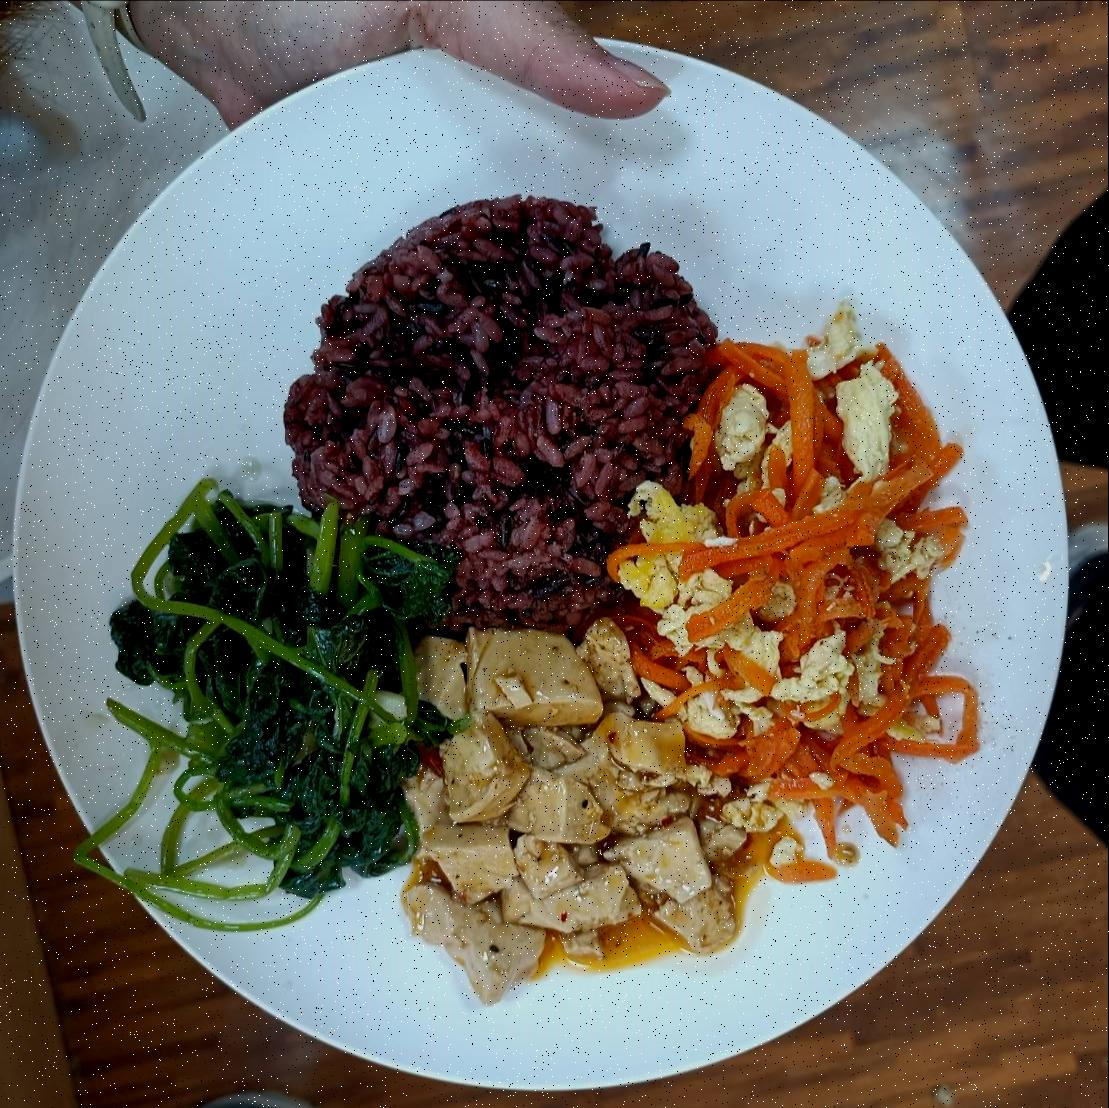plate: (14, 18, 1080, 1104)
purple rice: (271, 189, 724, 638)
side dish: (643, 298, 960, 876), (108, 478, 426, 902), (399, 618, 744, 964)
